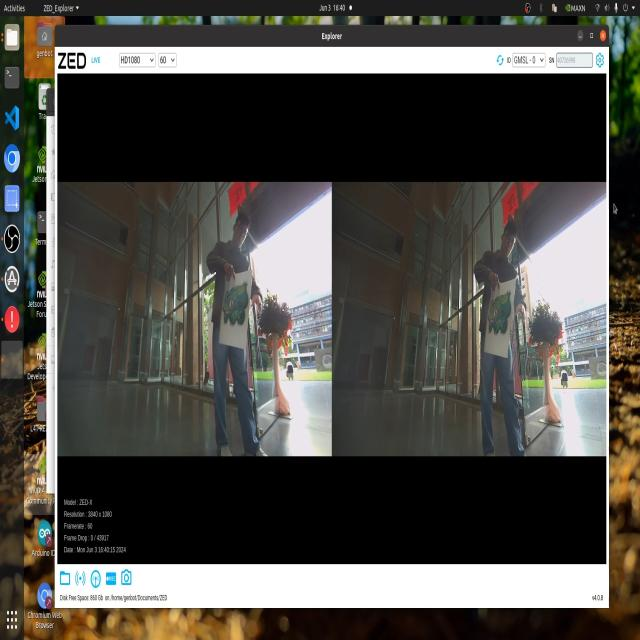green: (484, 277, 519, 339), (218, 278, 250, 332)
